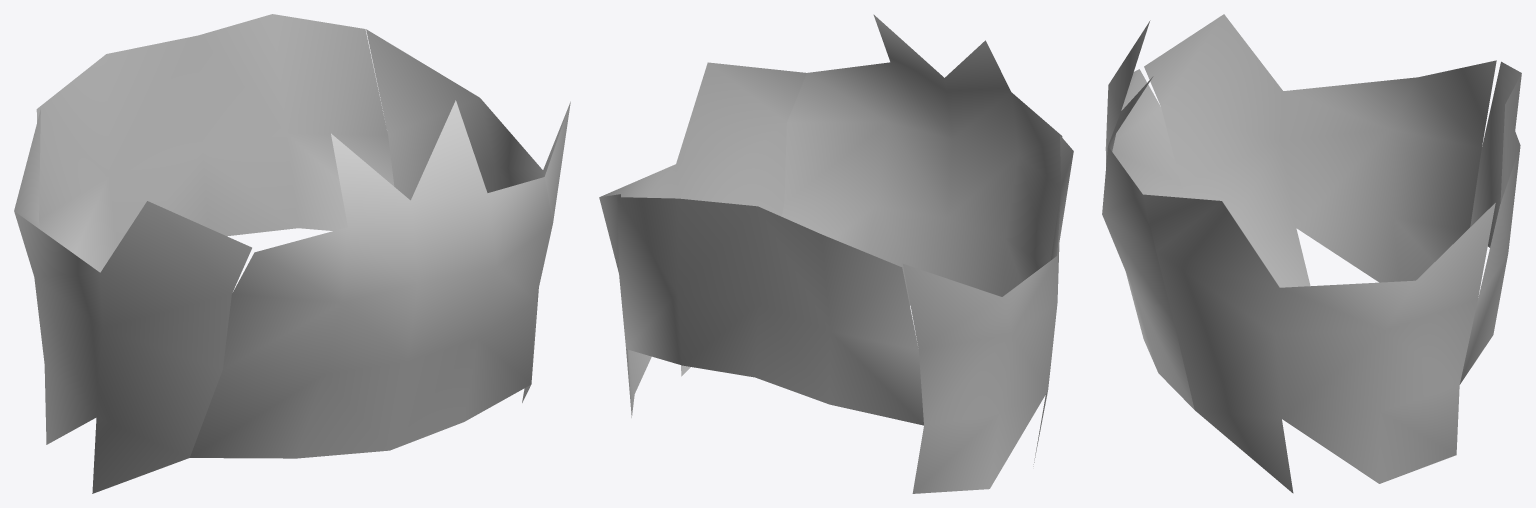
File: spine1.glb
The picture shows the model from 3 angles, left to right: view 1: azimuth 30°, elevation 25°; view 2: azimuth 150°, elevation 25°; view 3: azimuth 270°, elevation 25°; orthographic projection. The views are drawn at different scales.
Visible parts, largest first — view 1: polo-white_SPINE1; view 2: polo-white_SPINE1; view 3: polo-white_SPINE1.
Part boxes in pixels (<box>): polo-white_SPINE1: <box>14,14,570,493</box>; polo-white_SPINE1: <box>599,14,1073,493</box>; polo-white_SPINE1: <box>1102,14,1521,493</box>.
Size of the model in its own units: 0.3731 by 0.3036 by 0.3246.
1 material, 1 textured.
